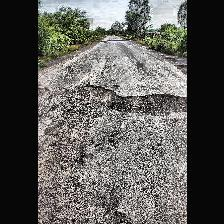pothole: (122, 93, 186, 117), (80, 82, 116, 112)
